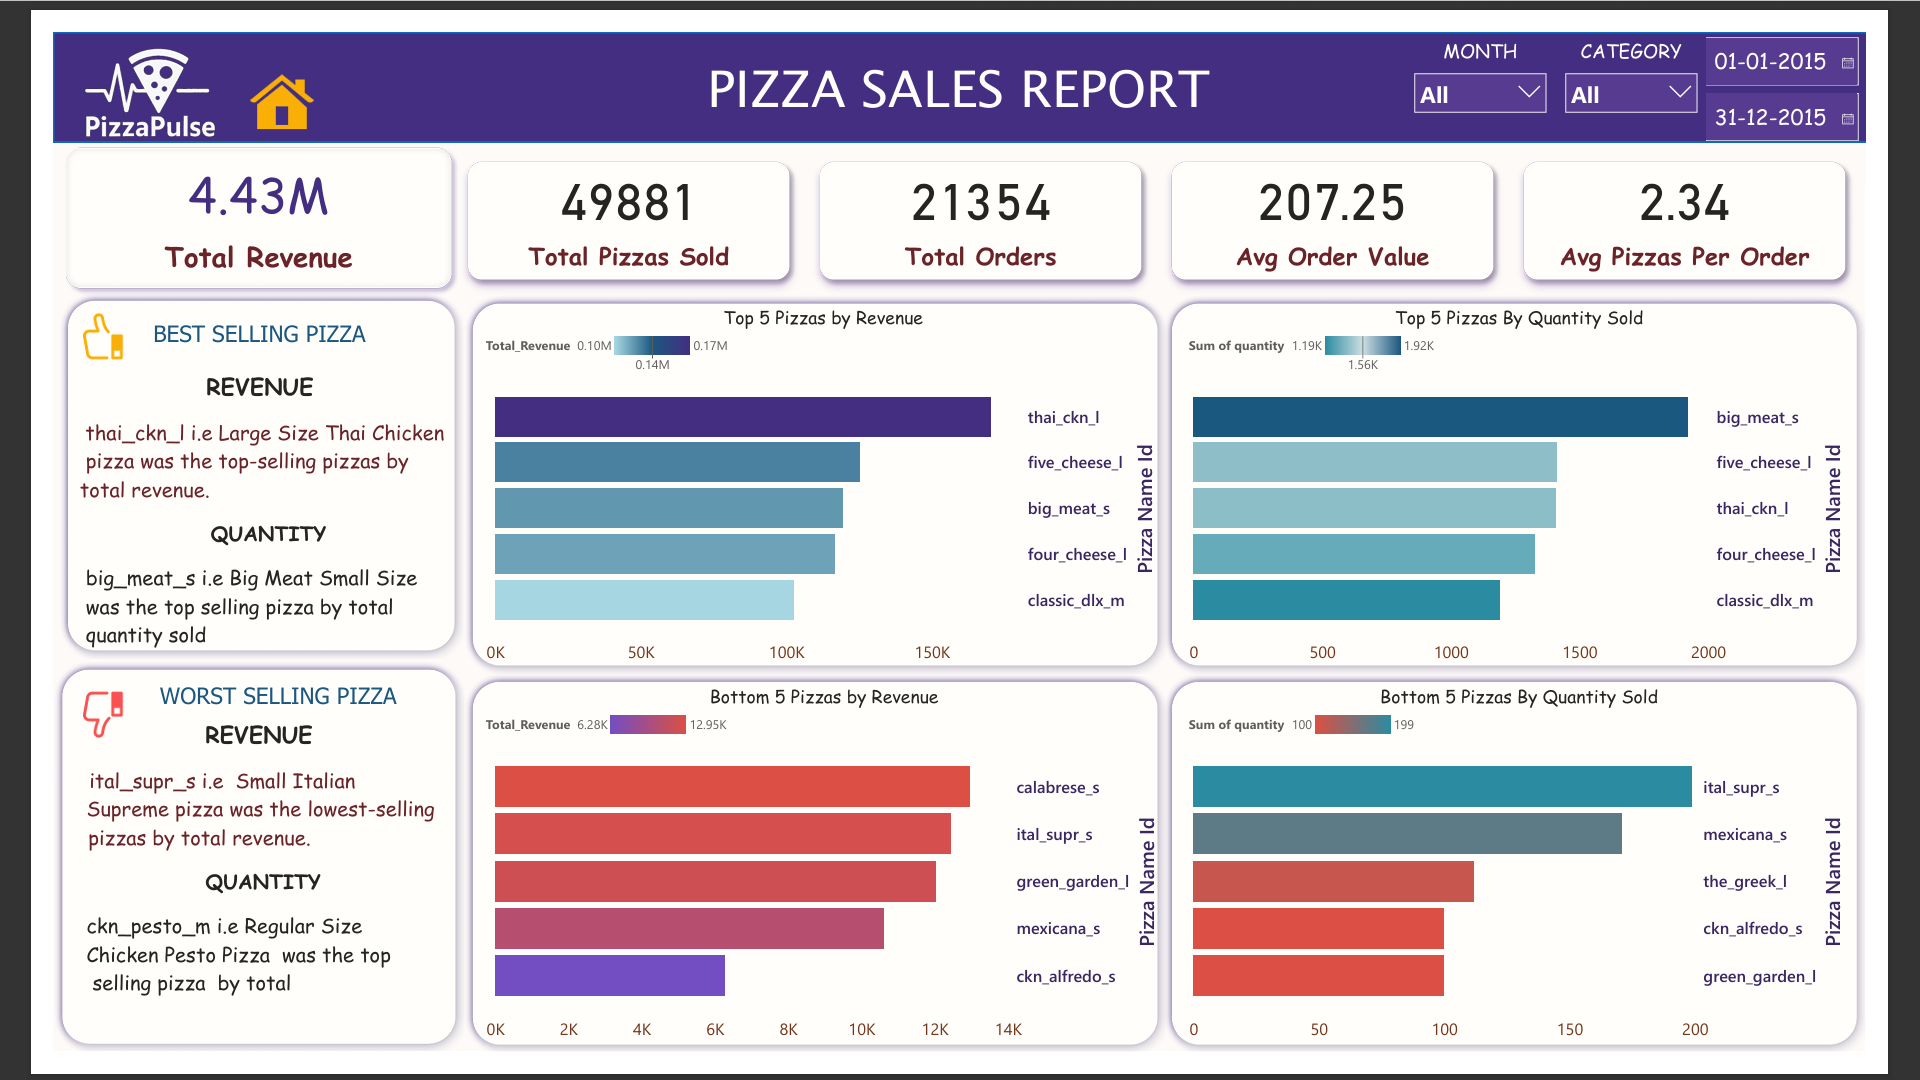

The dashboard page shown, as its layout file describes it:
{"tool":"powerbi","page":{"name":"Best/Worst Sales","canvas":[1920,1080],"ordinal":1},"visuals":[{"type":"shape","box":[0,0,1922,116],"z":0},{"type":"shape","box":[435,277.5,744,402.3],"z":0,"group":"g2"},{"type":"group","id":"g1","title":"Group 1","box":[1176,277.5,744,802.5],"z":0,"group":"g4"},{"type":"shape","box":[1176,277.5,744,402.3],"z":0,"group":"g1"},{"type":"shape","box":[0,666,435,415],"z":0,"group":"g5"},{"type":"cardVisual","fields":{"Data":["measures_table.Total_Pizzas_Sold","measures_table.Total_Order","measures_table.Average_Order_value","measures_table.Average_Pizzas_Per_Order"]},"box":[418,116,1502,162],"z":1000},{"type":"shape","box":[0,275,436,390],"z":1000,"group":"g5"},{"type":"group","id":"g2","title":"Group 1","box":[435,277.5,744,802.5],"z":1000,"group":"g4"},{"type":"shape","box":[435,678.7,744,402.3],"z":1000,"group":"g2"},{"type":"shape","box":[1176,678.7,744,402.3],"z":1000,"group":"g1"},{"type":"cardVisual","fields":{"Data":["measures_table.Total_Revenue"]},"box":[0,102,435,186],"z":2000},{"type":"textbox","box":[68,299,300,48],"z":2000,"group":"g5"},{"type":"textbox","box":[536,16,846,100],"z":3000},{"type":"textbox","box":[88,683,300,68],"z":3000,"group":"g5"},{"type":"slicer","title":"MONTH","fields":{"Values":["dim_dates_table.Month Name"]},"box":[1432,0,160,118],"z":4000},{"type":"textbox","box":[9.7,352.7,417.8,313.3],"z":4000,"group":"g5"},{"type":"slicer","fields":{"Values":["dim_dates_table.order_date"]},"box":[1738,0,182,128],"z":5000},{"type":"textbox","box":[17,721.9,400.8,357],"z":5000,"group":"g5"},{"type":"slicer","title":"CATEGORY","fields":{"Values":["dim_pizzas_table.pizza_category"]},"box":[1592,0,160,118],"z":6000},{"type":"image","box":[0,0,201.6,145.7],"z":7000},{"type":"group","id":"g3","title":"Group 2","box":[435,277.5,1485,802.5],"z":8000},{"type":"image","box":[201.6,31.6,80.2,87.4],"z":9000},{"type":"clusteredBarChart","title":"Top 5 Pizzas by Revenue","fields":{"Category":["dim_pizzas_table.pizza_name_id"],"Y":["measures_table.Total_Revenue"]},"box":[452.5,287.5,725,392.5],"z":10000},{"type":"clusteredBarChart","title":"Top 5 Pizzas By Quantity Sold","fields":{"Y":["Sum(fact_order_details_table.quantity)"],"Category":["dim_pizzas_table.pizza_name_id"]},"box":[1197.5,287.5,710,392.5],"z":11000},{"type":"group","id":"g4","title":"Group 3","box":[435,277.5,1485,802.5],"z":11001,"group":"g3"},{"type":"clusteredBarChart","title":"Bottom 5 Pizzas by Revenue","fields":{"Category":["dim_pizzas_table.pizza_name_id"],"Y":["measures_table.Total_Revenue"]},"box":[452.5,690,727.5,390],"z":12000},{"type":"clusteredBarChart","title":"Bottom 5 Pizzas By Quantity Sold","fields":{"Y":["Sum(fact_order_details_table.quantity)"],"Category":["dim_pizzas_table.pizza_name_id"]},"box":[1197.5,690,710,390],"z":13000},{"type":"group","id":"g5","title":"Group 1","box":[0,275,436,806],"z":14000},{"type":"image","box":[0,682.5,102,75.3],"z":16000},{"type":"image","box":[0,286.6,102,75.3],"z":19000}]}

Visuals, with their boxes in screenshot pixels (x1, y1, x2, y2), scaled from the page's 1920x1080 canvas onto the 1920x1080 screenshot:
shape: (0, 0, 1919, 116)
shape: (435, 278, 1179, 680)
"Group 1" group: (1176, 278, 1919, 1079)
shape: (1176, 278, 1919, 680)
shape: (0, 666, 435, 1079)
cardVisual - measures_table.Total_Pizzas_Sold x measures_table.Total_Order: (418, 116, 1919, 278)
shape: (0, 275, 436, 665)
"Group 1" group: (435, 278, 1179, 1079)
shape: (435, 679, 1179, 1079)
shape: (1176, 679, 1919, 1079)
cardVisual - measures_table.Total_Revenue: (0, 102, 435, 288)
textbox: (68, 299, 368, 347)
textbox: (536, 16, 1382, 116)
textbox: (88, 683, 388, 751)
"MONTH" slicer: (1432, 0, 1592, 118)
textbox: (10, 353, 428, 666)
slicer - dim_dates_table.order_date: (1738, 0, 1919, 128)
textbox: (17, 722, 418, 1079)
"CATEGORY" slicer: (1592, 0, 1752, 118)
image: (0, 0, 202, 146)
"Group 2" group: (435, 278, 1919, 1079)
image: (202, 32, 282, 119)
"Top 5 Pizzas by Revenue" clusteredBarChart: (452, 288, 1178, 680)
"Top 5 Pizzas By Quantity Sold" clusteredBarChart: (1198, 288, 1908, 680)
"Group 3" group: (435, 278, 1919, 1079)
"Bottom 5 Pizzas by Revenue" clusteredBarChart: (452, 690, 1180, 1079)
"Bottom 5 Pizzas By Quantity Sold" clusteredBarChart: (1198, 690, 1908, 1079)
"Group 1" group: (0, 275, 436, 1079)
image: (0, 682, 102, 758)
image: (0, 287, 102, 362)
